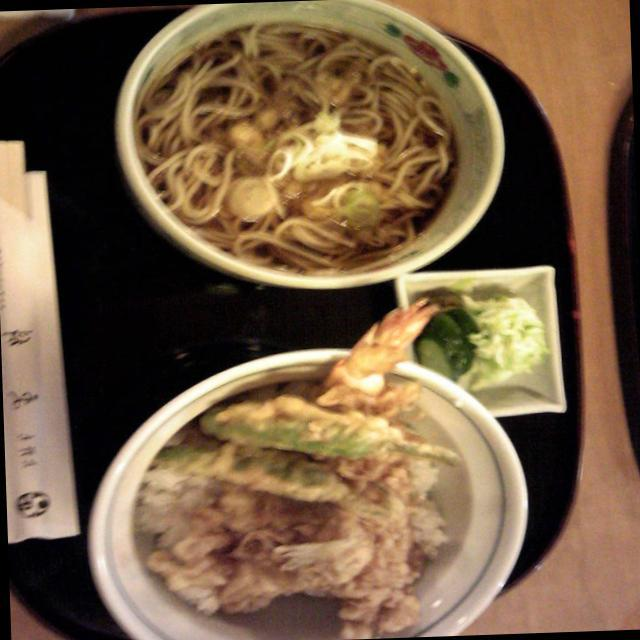Green Salad: (428, 289, 564, 392)
